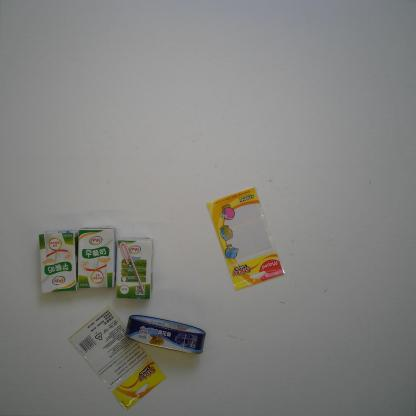Canned Food: (124, 314, 207, 355)
Milk: (38, 230, 78, 293), (115, 236, 153, 300), (78, 226, 116, 288)
Stationery: (68, 305, 165, 410), (206, 186, 284, 291)
